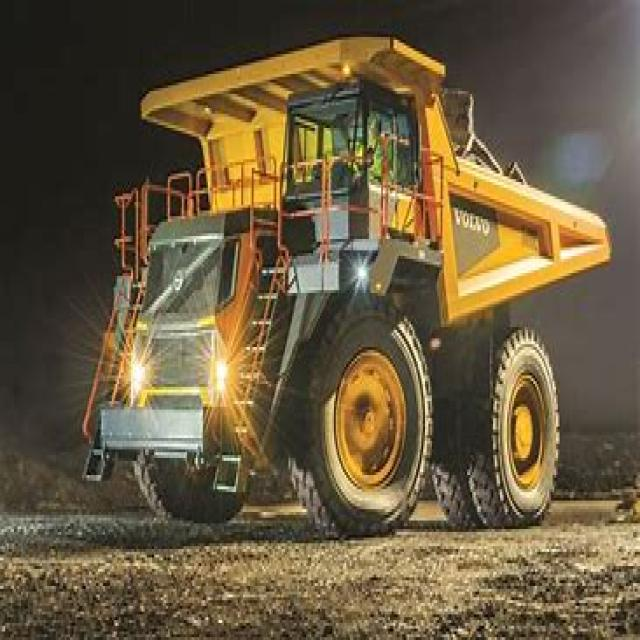dump_truck: (89, 26, 612, 526)
